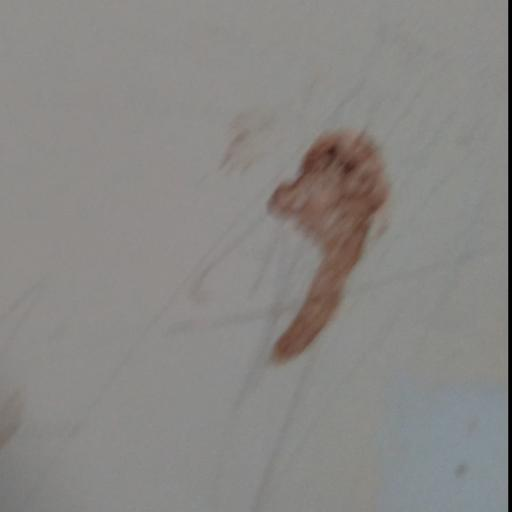stain: (155, 87, 446, 461)
